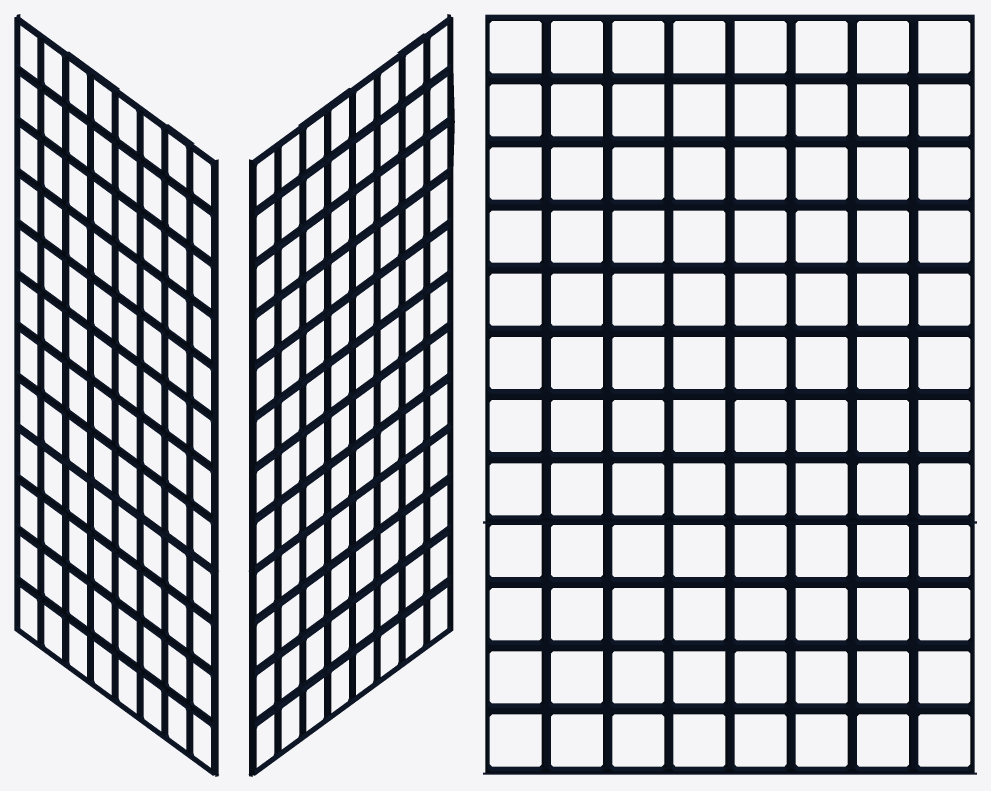
Rendered from PPRectangleMesh.fbx.
The picture shows the model from 3 angles, left to right: view 1: azimuth 30°, elevation 25°; view 2: azimuth 150°, elevation 25°; view 3: azimuth 270°, elevation 25°; orthographic projection. The views are drawn at different scales.
Visible parts, largest first — view 1: Plane.053; view 2: Plane.053; view 3: Plane.053.
Boxes of the visible parts, x1,y1,x2,y2 form: Plane.053: [14, 14, 218, 776]; Plane.053: [248, 14, 454, 776]; Plane.053: [483, 14, 976, 774].
Size of the model in its own units: 19.36 by 1542 by 907.
